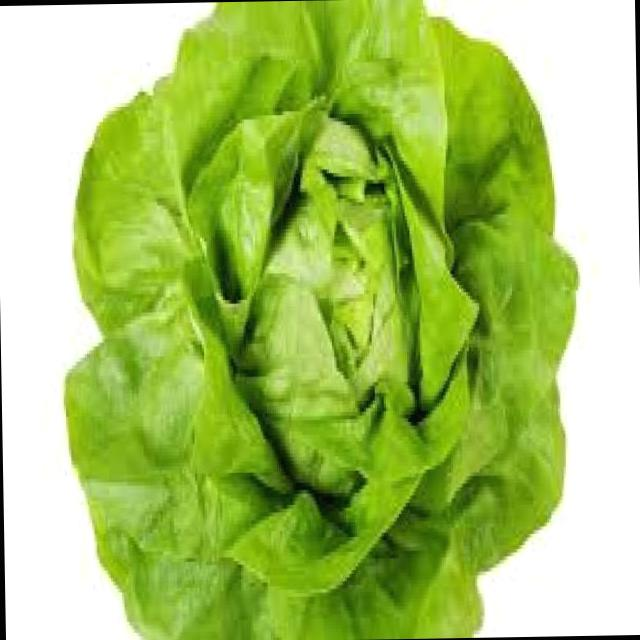Lettuce-Ready-to-Harvest: (66, 0, 575, 640)
